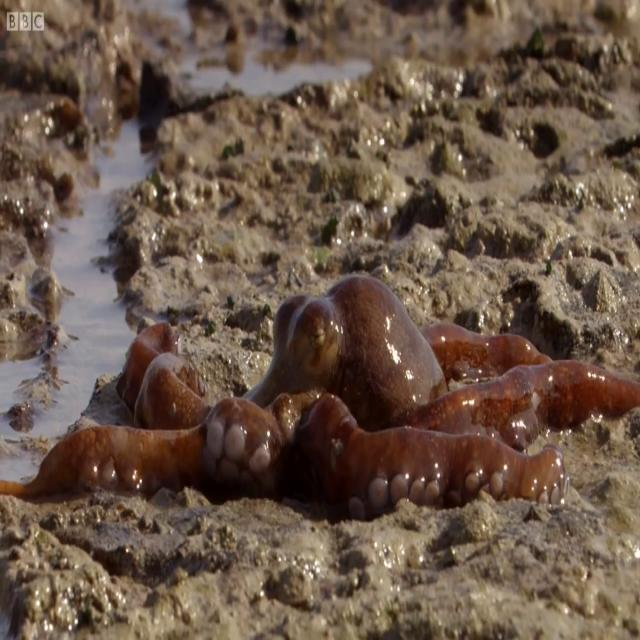octopus: (0, 274, 640, 506)
